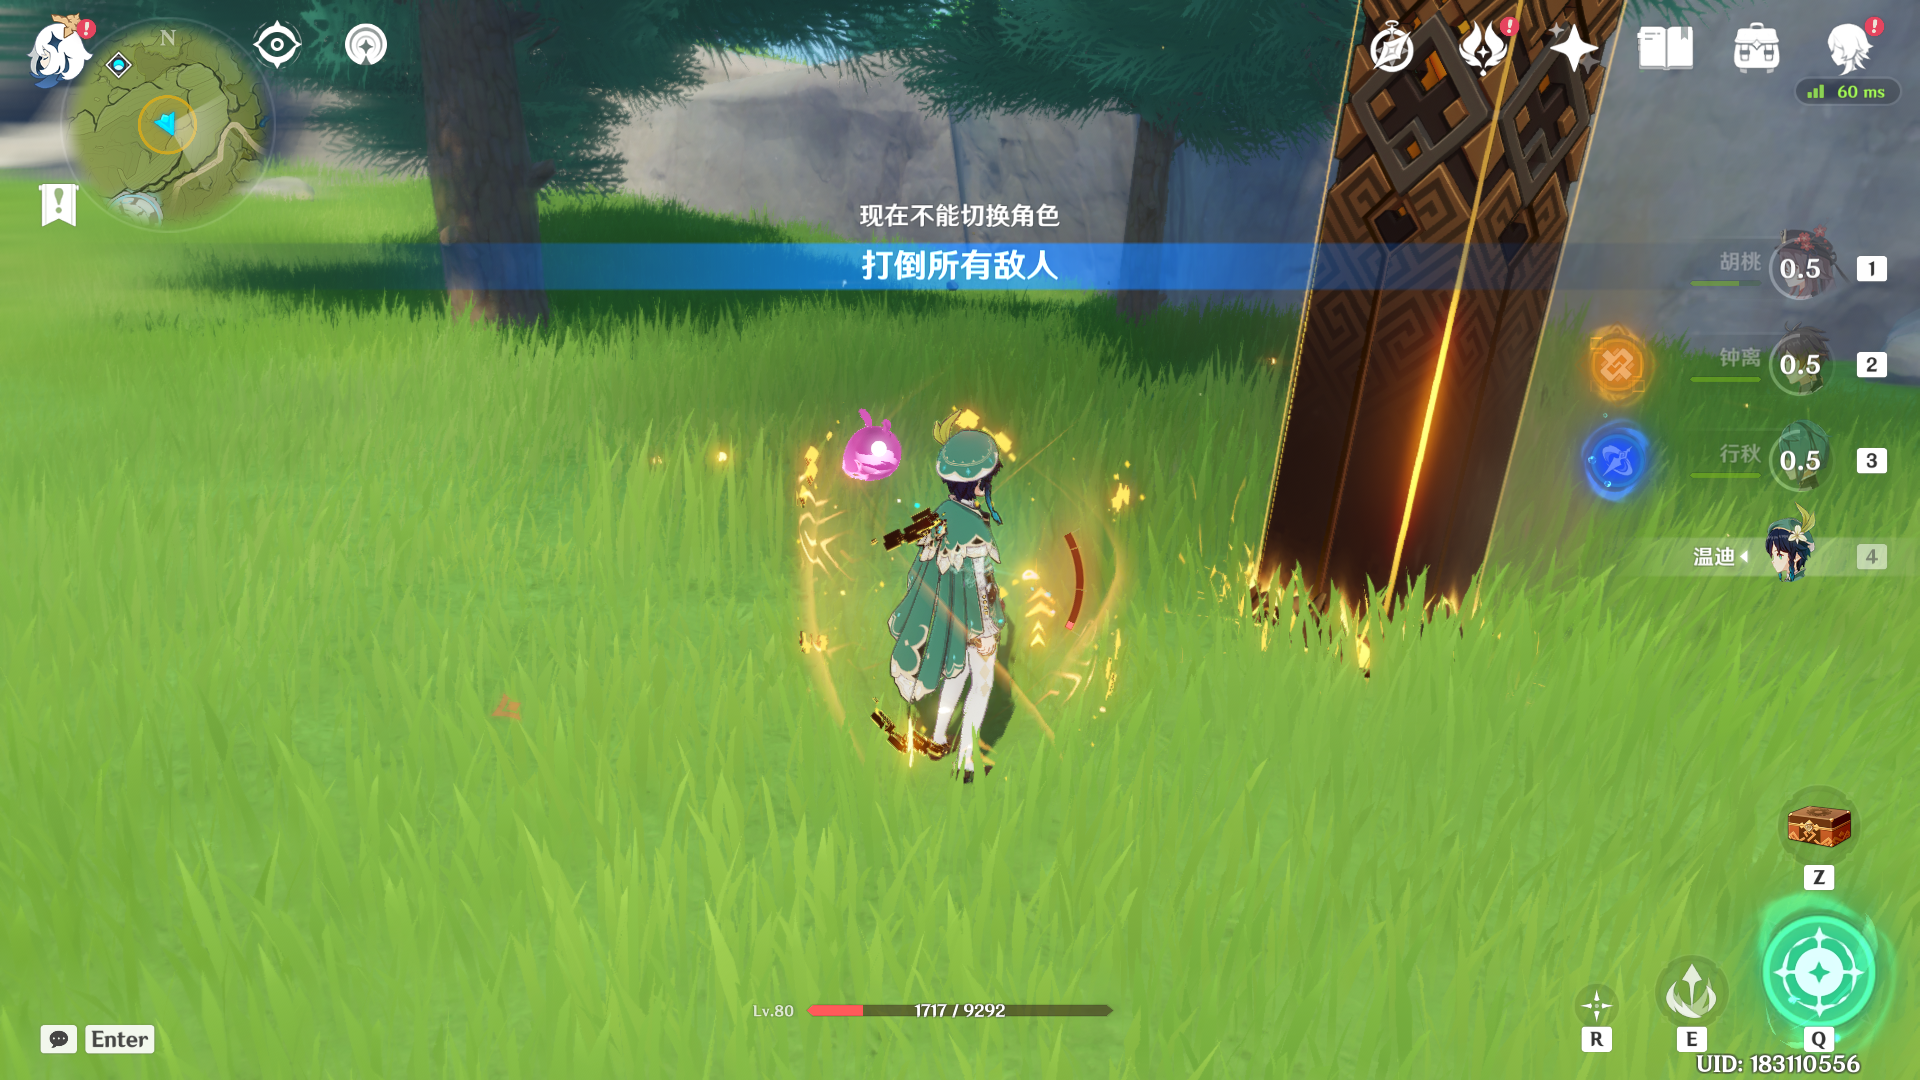character: (790, 381, 1100, 814)
